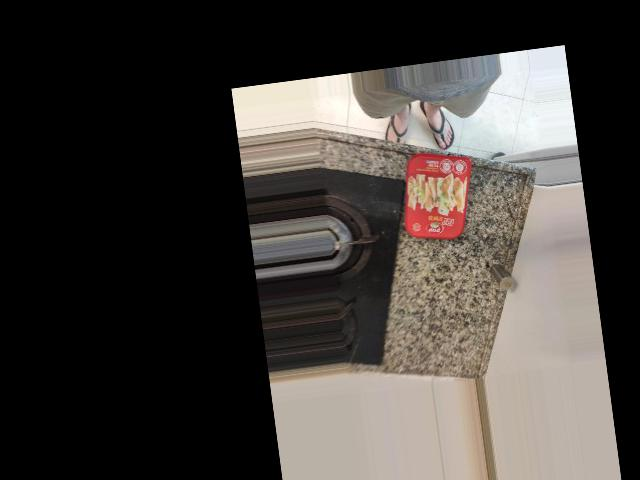cheese: (382, 220, 485, 339)
